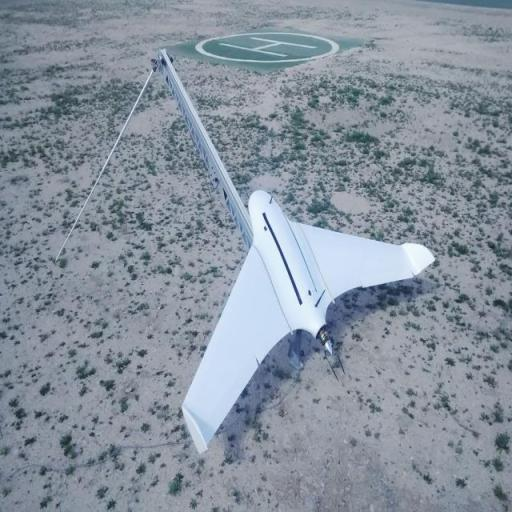uav: (180, 188, 438, 451)
